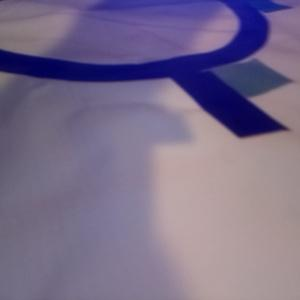bottom_right: (191, 58, 292, 97)
